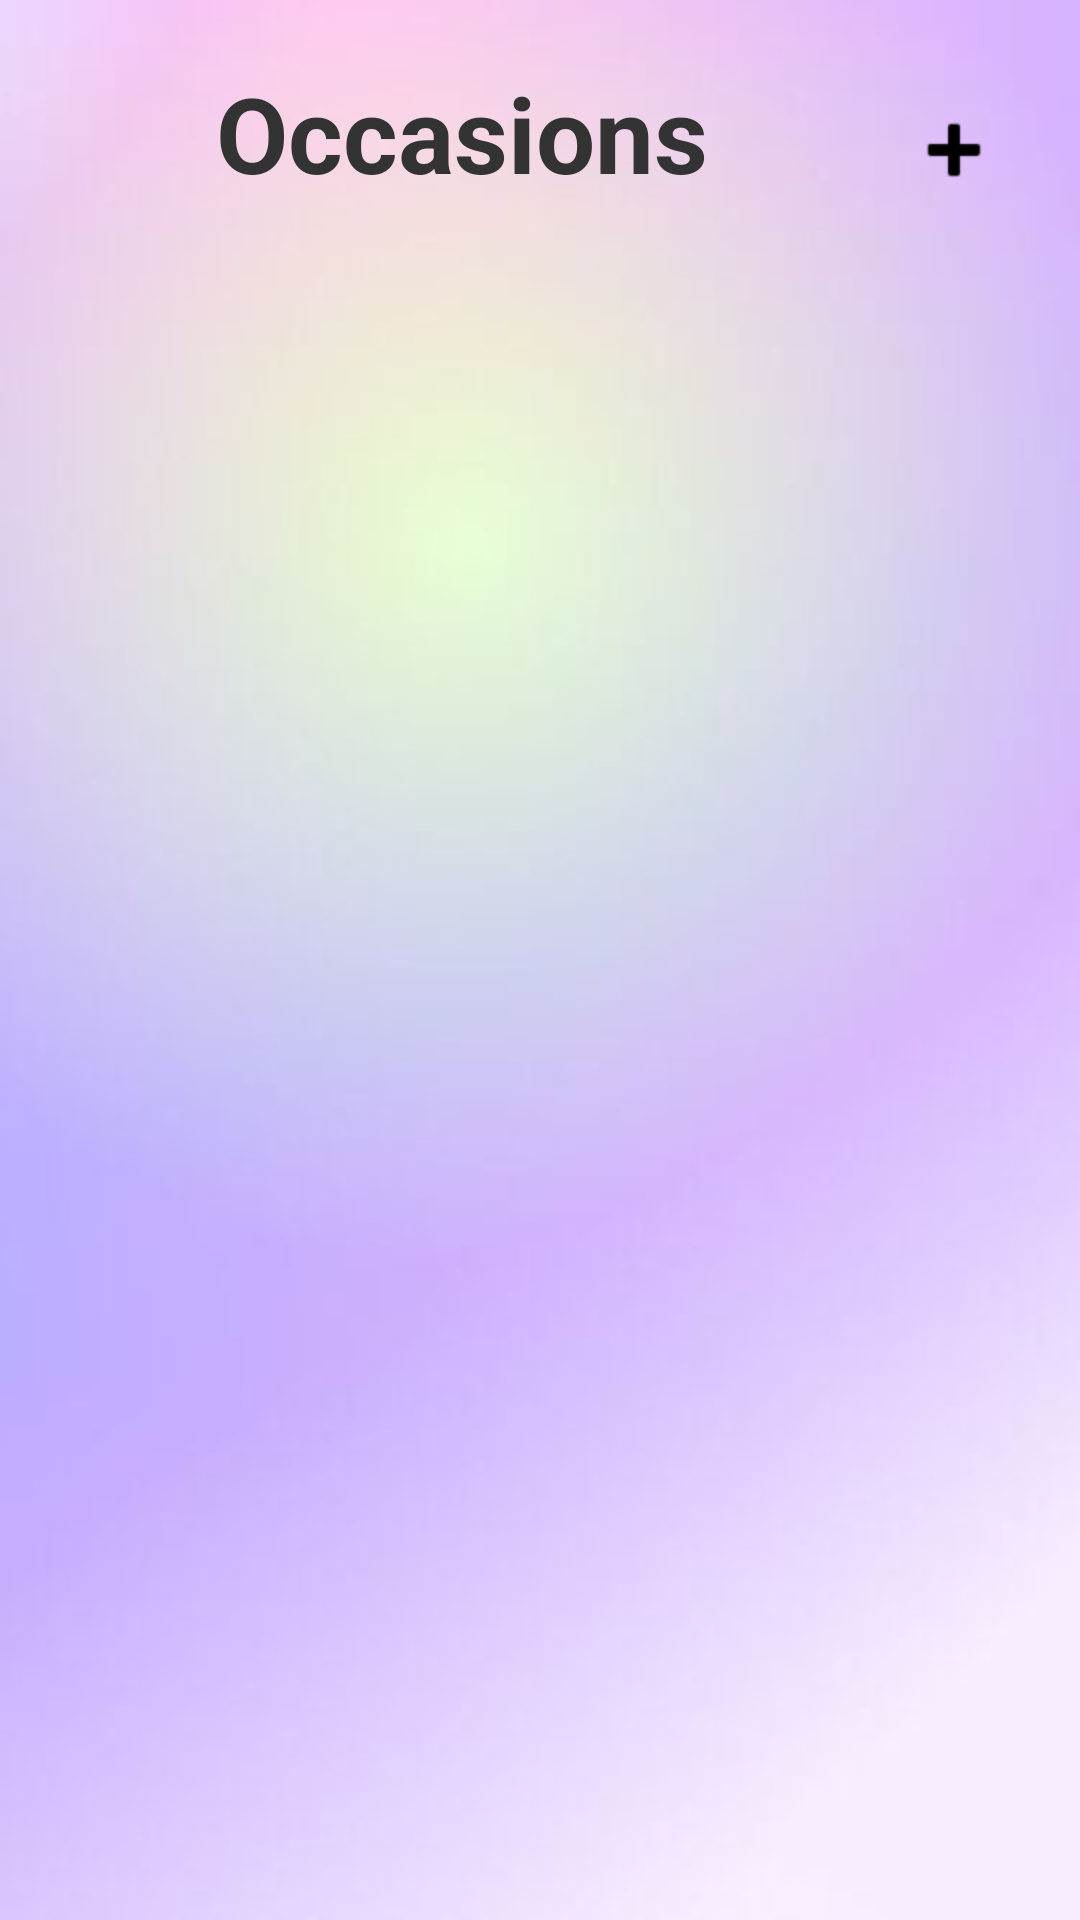

Named icons in this screenshot (1080*1920) and their bounding boxes, (x1, y1, x2, y2):
Add Categories: (927, 123, 981, 177)
